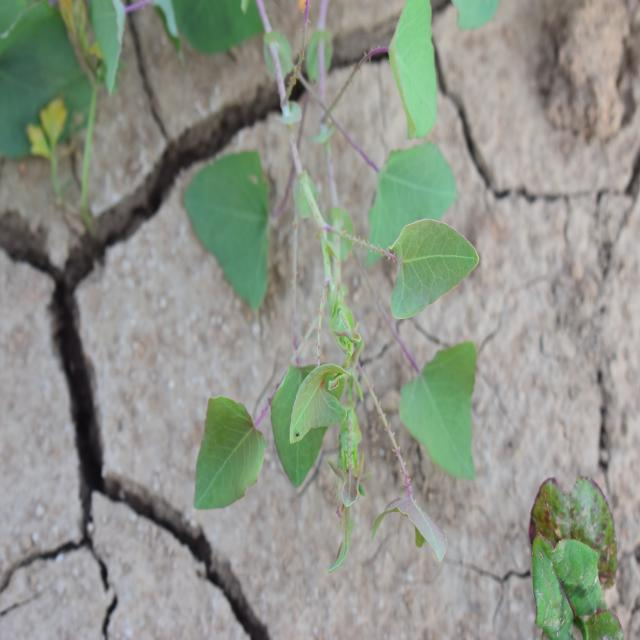Asiatic_Smartweed: (182, 147, 490, 569)
